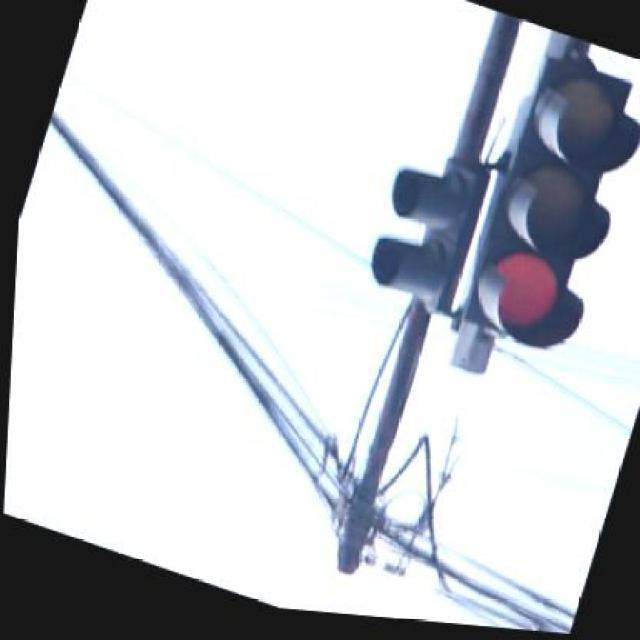red_light: (473, 33, 638, 345)
